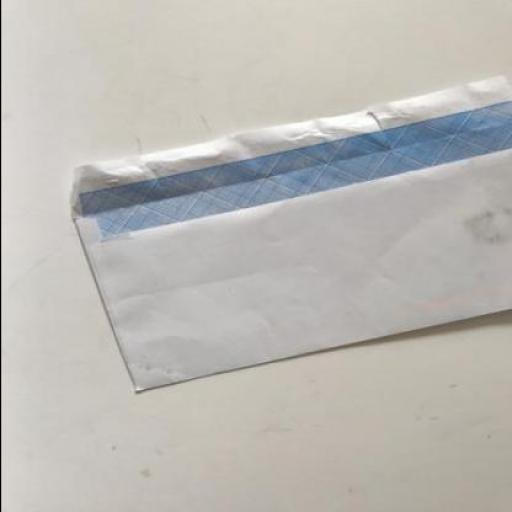paper: (66, 73, 511, 392)
